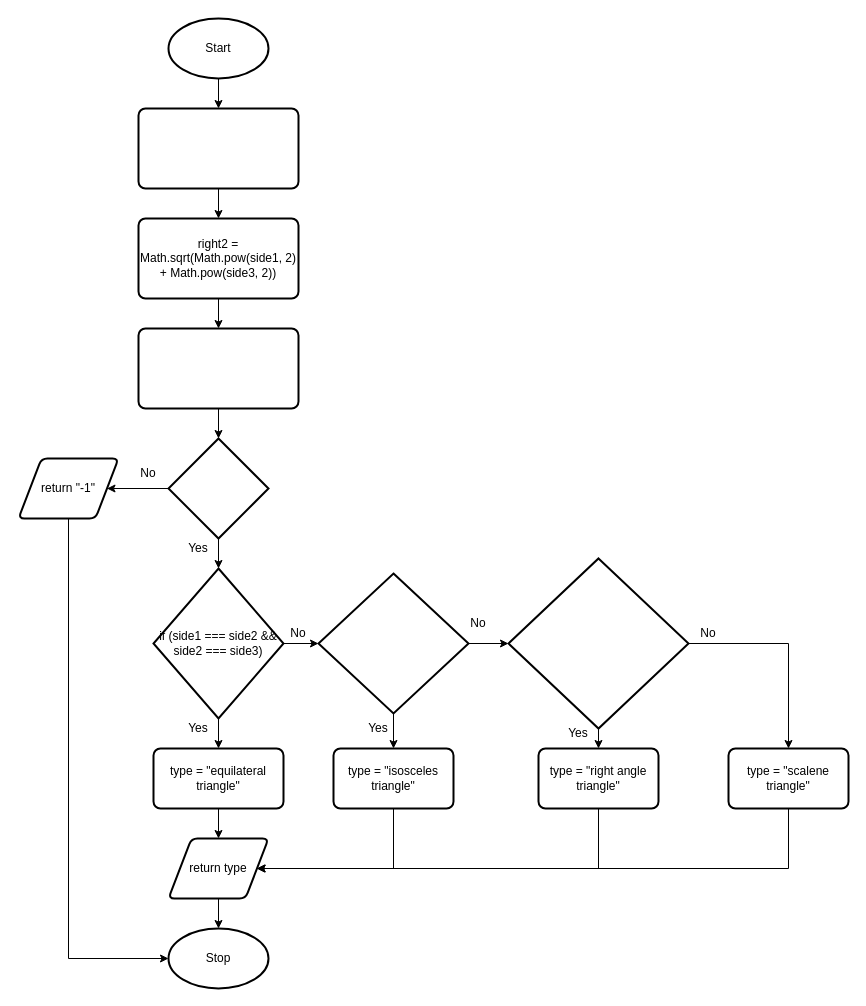
Image size: 866x1006. Some labels were removed from this diagram. Each missing label, with the box of its shape:
if (isValid()): (167, 437, 269, 539)
if (right1 === side1 || right2 === side2 || right3 === side3): (507, 557, 689, 729)
if (side1 === side2 || side2 === side3 || side1 === side3): (317, 572, 469, 714)
right1 = Math.sqrt(Math.pow(side2, 2) + Math.pow(side3, 2)): (137, 107, 299, 189)
right3 = Math.sqrt(Math.pow(side1, 2) + Math.pow(side2, 2)): (137, 327, 299, 409)
